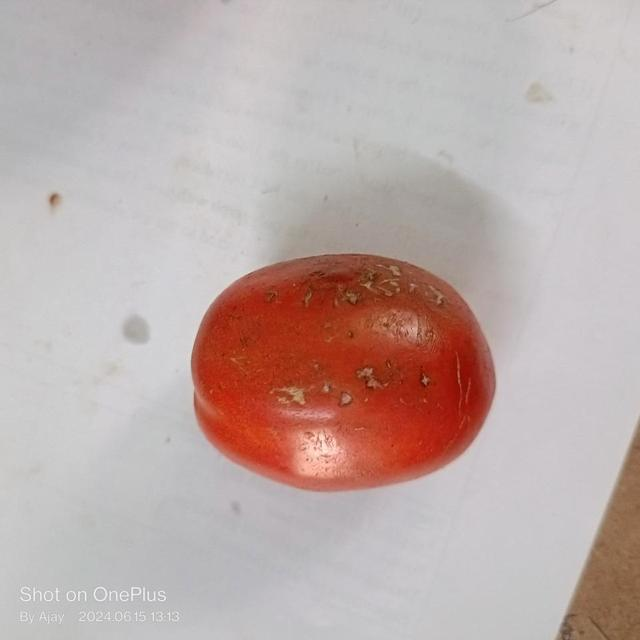Bacterial Spot Fruit: (103, 29, 248, 260)
